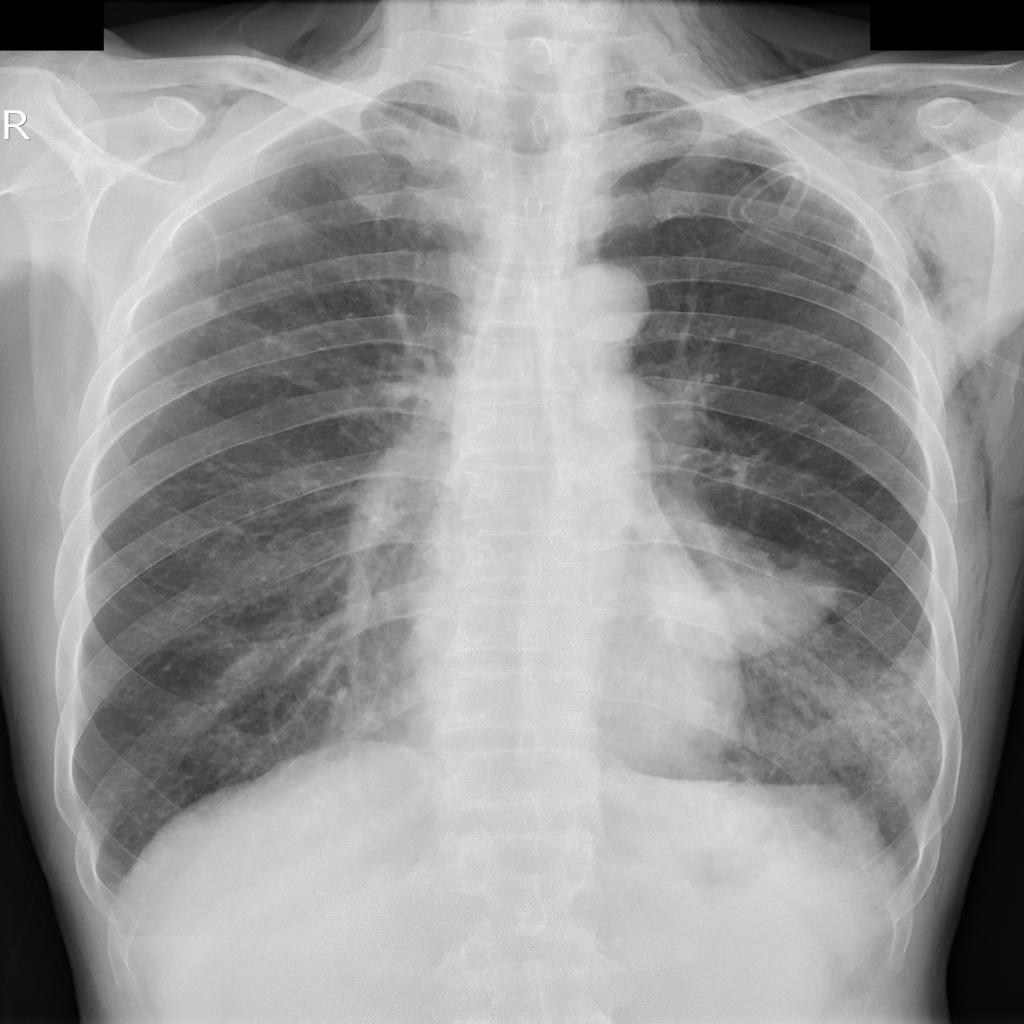Nodule: (669, 566, 853, 665)
